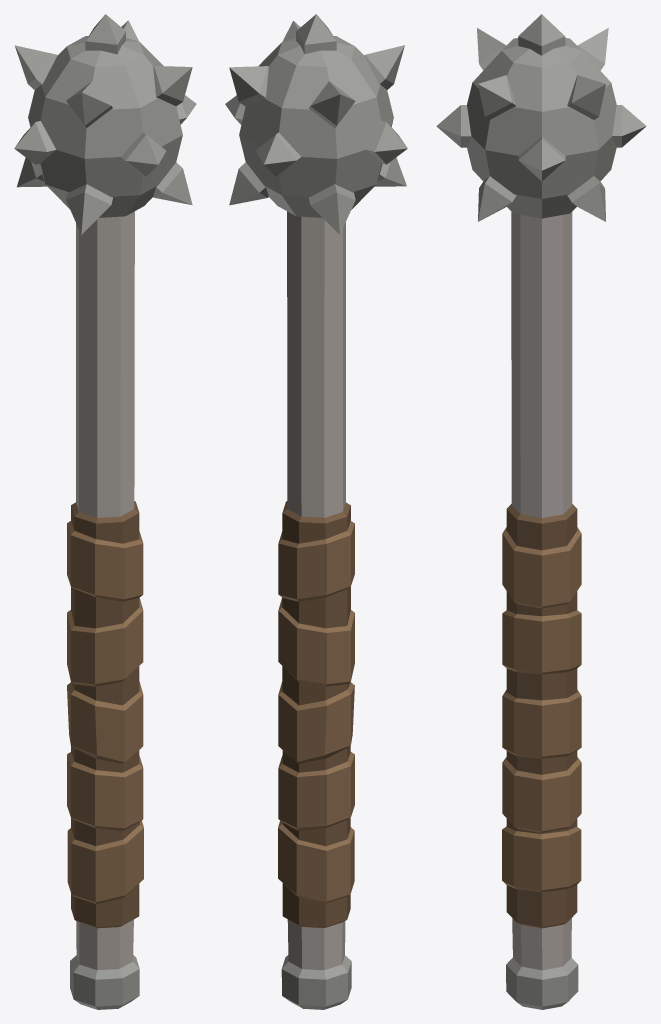
File: SM_pwe_medieval_mace_03.fbx
The picture shows the model from 3 angles, left to right: view 1: azimuth 30°, elevation 25°; view 2: azimuth 150°, elevation 25°; view 3: azimuth 270°, elevation 25°; orthographic projection.
Visible parts, largest first — view 1: SM_pwe_medieval_mace_03; view 2: SM_pwe_medieval_mace_03; view 3: SM_pwe_medieval_mace_03.
Part boxes in pixels (x1,y1,x2,y2): SM_pwe_medieval_mace_03: (14,14,196,1009); SM_pwe_medieval_mace_03: (225,14,407,1009); SM_pwe_medieval_mace_03: (436,14,646,1009).
Bounding box in the file's own units: 14.32 × 73.71 × 14.27.
